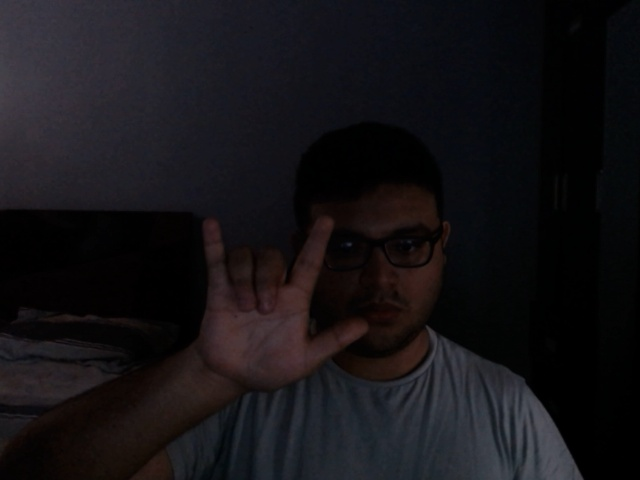I love you: (192, 212, 371, 403)
